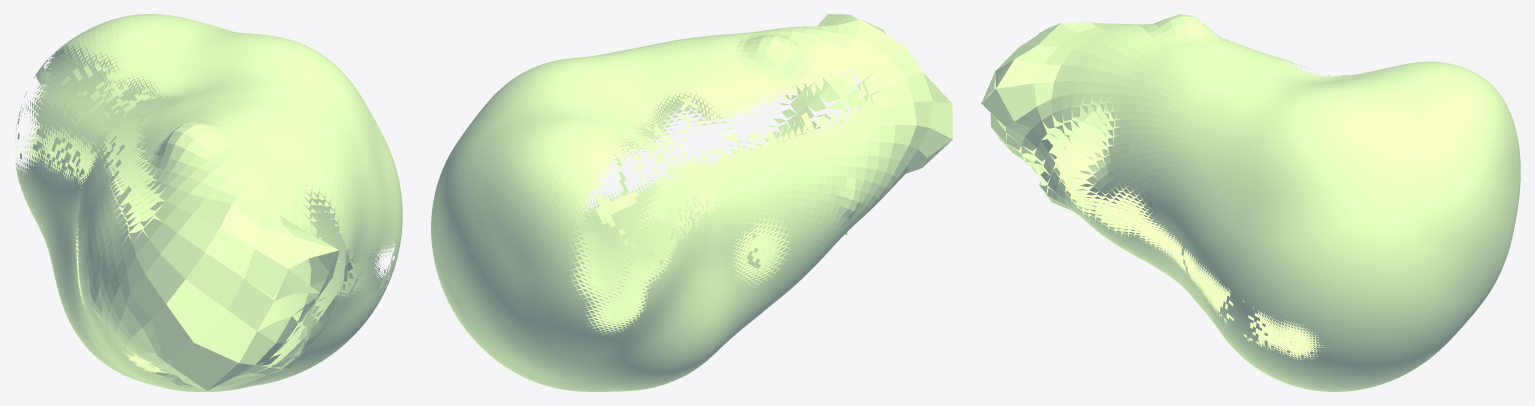
Rendered from asset.glb.
The picture shows the model from 3 angles, left to right: view 1: azimuth 30°, elevation 25°; view 2: azimuth 150°, elevation 25°; view 3: azimuth 270°, elevation 25°; orthographic projection. The views are drawn at different scales.
Parts seen in each view (by area): view 1: Quad Sphere; view 2: Quad Sphere; view 3: Quad Sphere.
Part boxes in pixels (x1,y1,x2,y2): Quad Sphere: [15, 14, 402, 391]; Quad Sphere: [431, 14, 952, 391]; Quad Sphere: [981, 14, 1520, 391].
Size of the model in its own units: 7.52 by 6.37 by 10.1.
